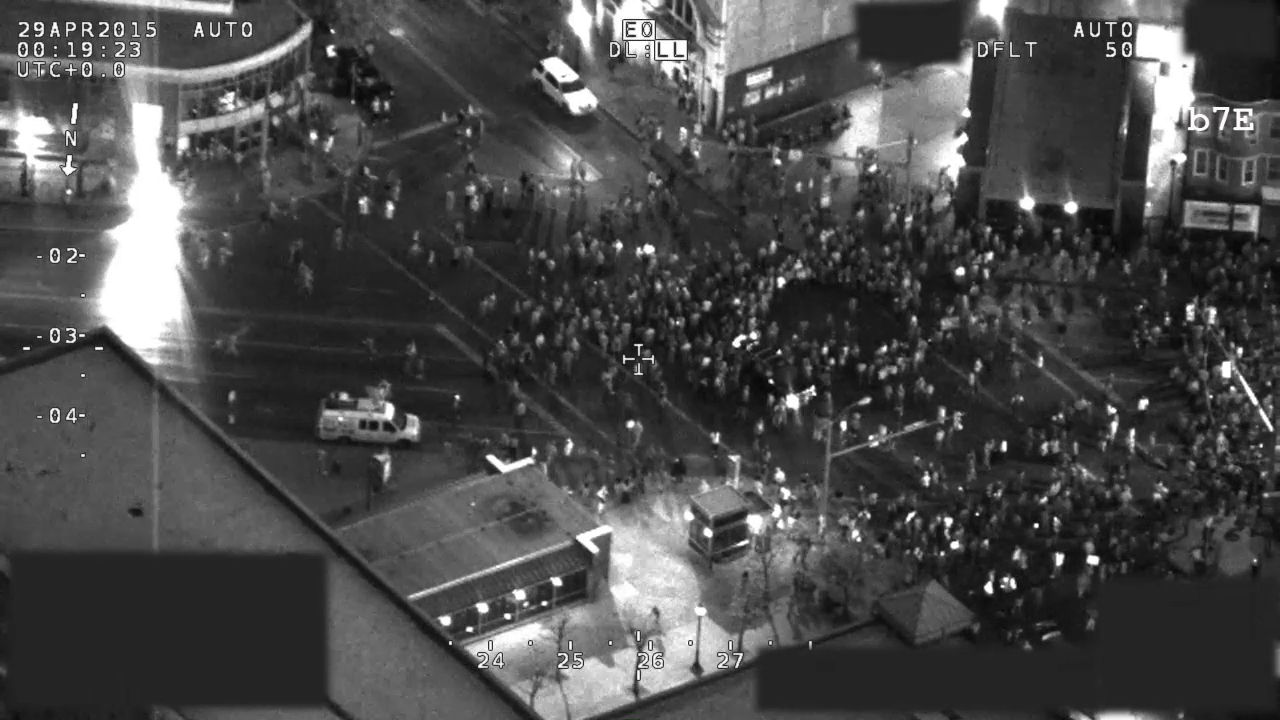vehicle: (311, 389, 425, 451), (736, 340, 825, 415), (523, 51, 603, 125), (326, 43, 398, 113)
